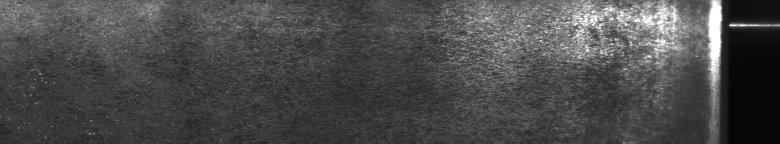kb: (390, 4, 715, 133)
